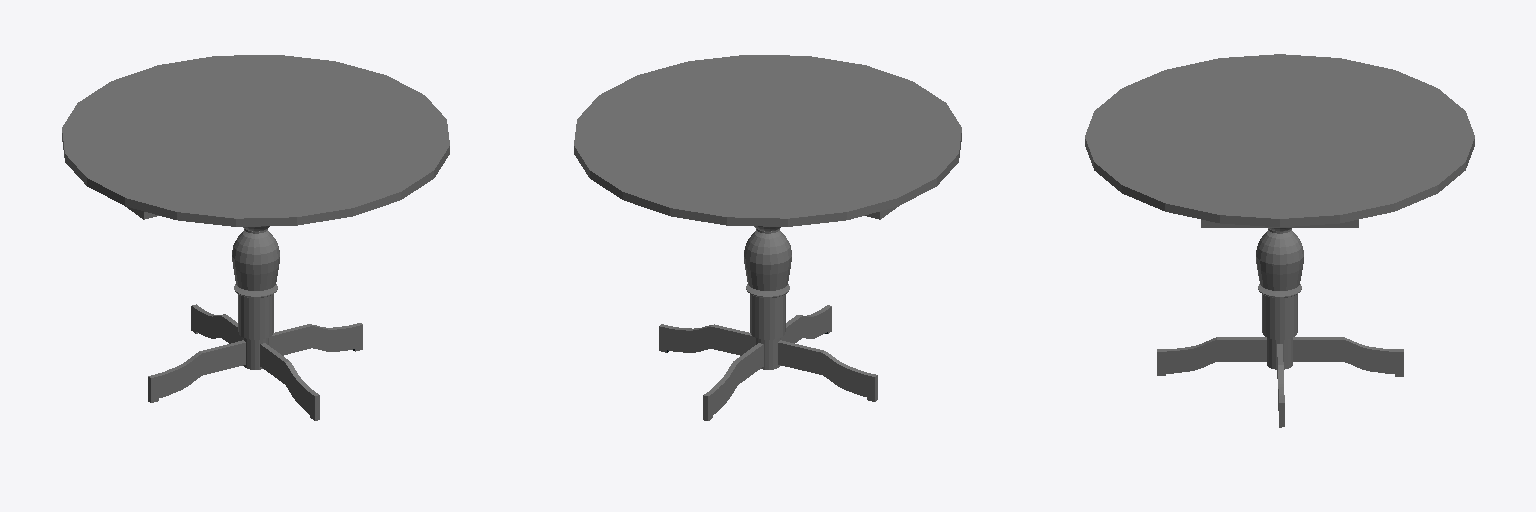
Rendered from Table_Sub_Ready.obj.
The picture shows the model from 3 angles: view 1: azimuth 30°, elevation 25°; view 2: azimuth 150°, elevation 25°; view 3: azimuth 270°, elevation 25°; orthographic projection.
Parts seen in each view (by area): view 1: pCube7; view 2: pCube7; view 3: pCube7.
Part boxes in pixels (left/top/right/bottom): pCube7: left=62, top=55, right=449, bottom=420; pCube7: left=574, top=55, right=961, bottom=420; pCube7: left=1085, top=54, right=1474, bottom=427.
Bounding box in the file's own units: 29.14 × 19.66 × 29.14.